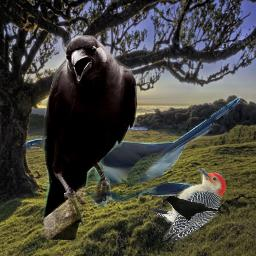Crow: (41, 35, 137, 240), (160, 194, 218, 223)
Cuckoo: (23, 96, 247, 208)
Woodpecker: (151, 168, 226, 243)
